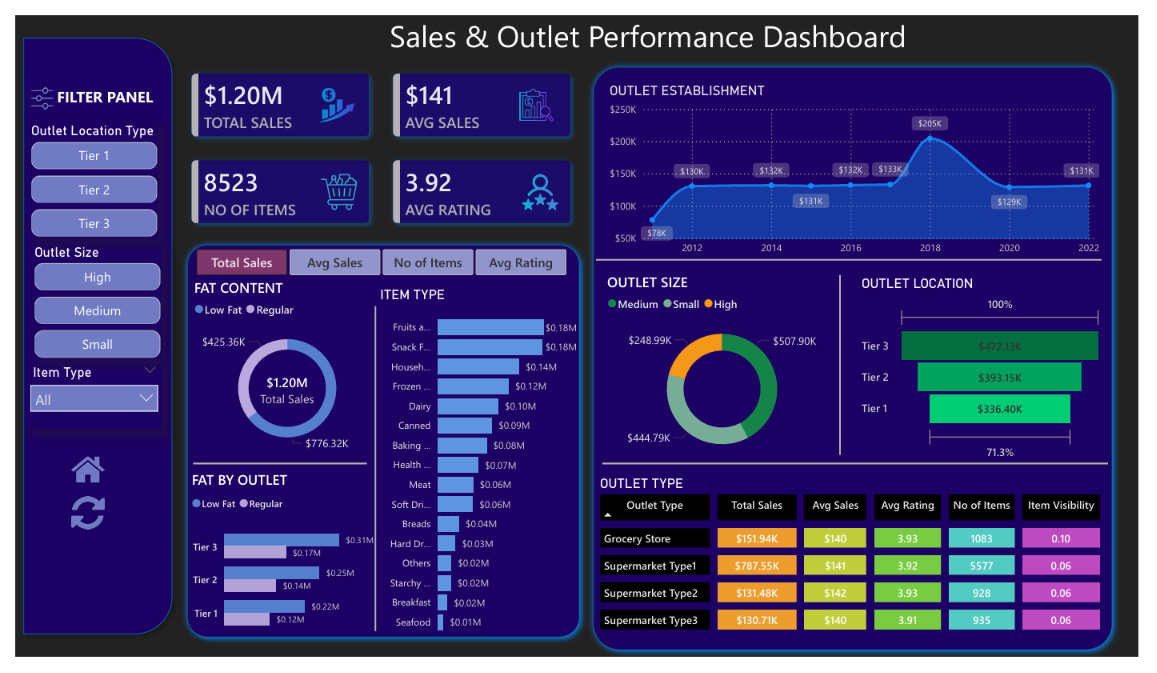

The page's visual inventory and layout, read from the dashboard file:
{"tool":"powerbi","page":{"name":"Page 1","canvas":[1400,800],"ordinal":0},"visuals":[{"type":"shape","box":[0,18,206,764],"z":0},{"type":"cardVisual","fields":{"Data":["Sum(Sales Data.Total Sales)","Sales Data.Avg Sales","Sales Data.No of Items","Sales Data.Avg Rating"]},"box":[203.4,55.7,507.1,221.4],"z":1000},{"type":"shape","box":[206,278,506,506],"z":2000},{"type":"advancedSlicerVisual","fields":{"Values":["Parameter.Parameter"]},"box":[224.3,287.1,465.7,40],"z":3000},{"type":"donutChart","title":"FAT CONTENT","fields":{"Y":["Sales Data.Total Sales"],"Category":["Sales Data.Item Fat Content"]},"box":[221.4,327.1,235.7,224.3],"z":4000},{"type":"cardVisual","fields":{"Data":["Sales Data.Total Sales"]},"box":[284,442,110,50],"z":5000},{"type":"clusteredBarChart","title":"FAT BY OUTLET","fields":{"Y":["Sales Data.Total Sales"],"Category":["Sales Data.Outlet Location Type"],"Series":["Sales Data.Item Fat Content"]},"box":[215,566.7,236.7,218.3],"z":6000},{"type":"shape","box":[221.7,540,216.7,38.3],"z":7000},{"type":"shape","box":[443.3,363.3,11.7,405],"z":8000},{"type":"barChart","title":"ITEM TYPE","fields":{"Y":["Sales Data.Total Sales"],"Category":["Sales Data.Item Type"]},"box":[450,338.3,255,443.3],"z":9000},{"type":"shape","box":[712,56,664,744],"z":10000},{"type":"lineChart","title":"OUTLET ESTABLISHMENT","fields":{"Category":["Sales Data.Outlet Establishment Year"],"Y":["Sum(Sales Data.Sales)"]},"box":[736,84,620,224],"z":11000},{"type":"donutChart","title":"OUTLET SIZE","fields":{"Y":["Sum(Sales Data.Sales)"],"Category":["Sales Data.Outlet Size"]},"box":[736,320,290,240],"z":12000},{"type":"funnel","title":"OUTLET LOCATION","fields":{"Y":["Sum(Sales Data.Sales)"],"Category":["Sales Data.Outlet Location Type"]},"box":[1050,324,310,236],"z":13000},{"type":"shape","box":[1008,324,40,224],"z":14000},{"type":"shape","box":[724,286,630,38],"z":15000},{"type":"pivotTable","title":"OUTLET TYPE","fields":{"Rows":["Sales Data.Outlet Type"],"Values":["Sales Data.Total Sales","Sales Data.Avg Sales","Sales Data.Avg Rating","Sales Data.No of Items","Avg(Sales Data.Item Visibility)"]},"box":[724,574,652,206],"z":16000},{"type":"shape","box":[732,540,630,38],"z":17000},{"type":"textbox","box":[312,0,954,84],"z":18000},{"type":"advancedSlicerVisual","fields":{"Values":["Sales Data.Outlet Location Type"]},"box":[19.5,133.6,157.6,144.1],"z":19000},{"type":"advancedSlicerVisual","fields":{"Values":["Sales Data.Outlet Size"]},"box":[24,285.2,157.6,142.6],"z":19001},{"type":"slicer","fields":{"Values":["Sales Data.Item Type"]},"box":[13.5,435.3,169.6,81],"z":19002},{"type":"textbox","box":[46.5,84,130.6,39],"z":19003},{"type":"image","box":[19.5,88.6,27,28.5],"z":19004},{"type":"image","box":[67.5,546.3,45,40.5],"z":19005},{"type":"image","box":[67.5,600.3,45,40.5],"z":19006}]}

Visuals, with their boxes in screenshot pixels (x1, y1, x2, y2), scaled from the page's 1400x800 canvas onto the 1157x673 screenshot:
shape: 0:15:170:658
cardVisual - Sum(Sales Data.Total Sales) x Sales Data.Avg Sales: 168:47:587:233
shape: 170:234:588:660
advancedSlicerVisual - Parameter.Parameter: 185:242:570:275
"FAT CONTENT" donutChart: 183:275:378:464
cardVisual - Sales Data.Total Sales: 235:372:326:414
"FAT BY OUTLET" clusteredBarChart: 178:477:373:660
shape: 183:454:362:486
shape: 366:306:376:646
"ITEM TYPE" barChart: 372:285:583:658
shape: 588:47:1137:672
"OUTLET ESTABLISHMENT" lineChart: 608:71:1121:259
"OUTLET SIZE" donutChart: 608:269:848:471
"OUTLET LOCATION" funnel: 868:273:1124:471
shape: 833:273:866:461
shape: 598:241:1119:273
"OUTLET TYPE" pivotTable: 598:483:1137:656
shape: 605:454:1126:486
textbox: 258:0:1046:71
advancedSlicerVisual - Sales Data.Outlet Location Type: 16:112:146:234
advancedSlicerVisual - Sales Data.Outlet Size: 20:240:150:360
slicer - Sales Data.Item Type: 11:366:151:434
textbox: 38:71:146:103
image: 16:75:38:99
image: 56:460:93:494
image: 56:505:93:539
